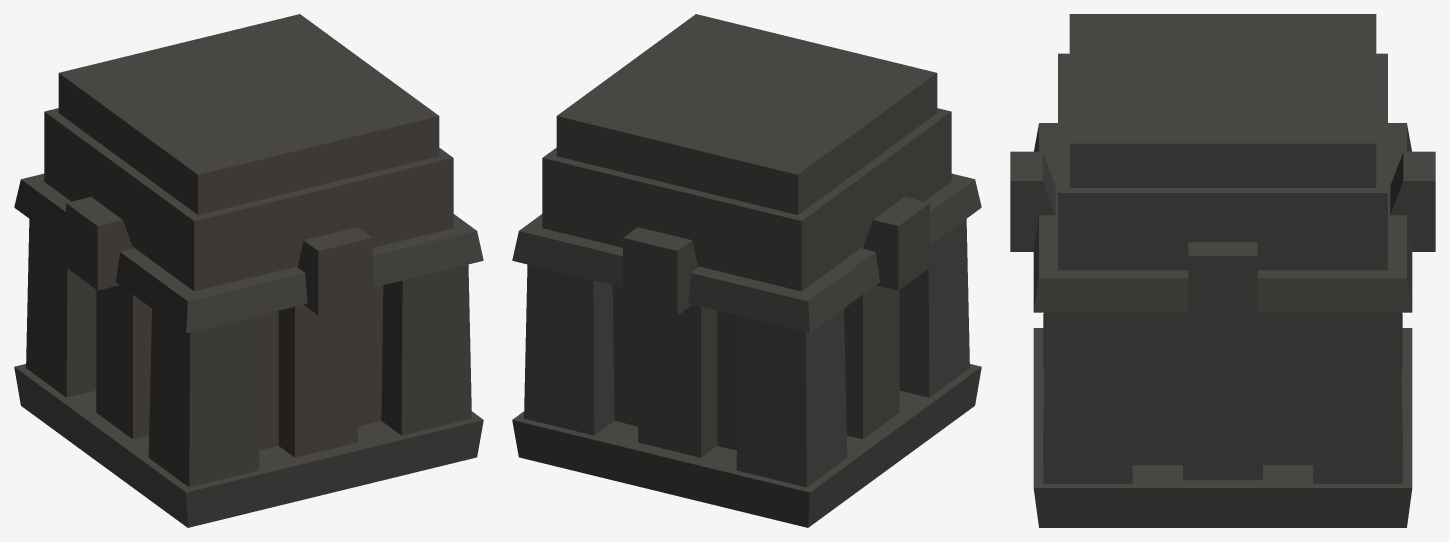
The model's file is Pillar_4_LOD.fbx.
The picture shows the model from 3 angles, left to right: view 1: azimuth 30°, elevation 25°; view 2: azimuth 150°, elevation 25°; view 3: azimuth 270°, elevation 25°; orthographic projection. The views are drawn at different scales.
Visible parts, largest first — view 1: polySurface1278; view 2: polySurface1278; view 3: polySurface1278.
Boxes of the visible parts, <box> form: polySurface1278: <box>14,14,483,527</box>; polySurface1278: <box>512,14,981,527</box>; polySurface1278: <box>1010,14,1435,527</box>.
Size of the model in its own units: 2.05 by 1.97 by 2.05.
